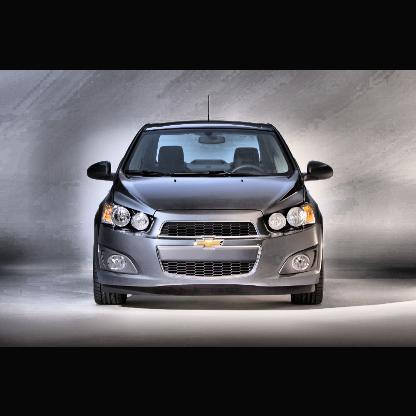Chevrolet Sonic Sedan 2012: (86, 93, 336, 307)
